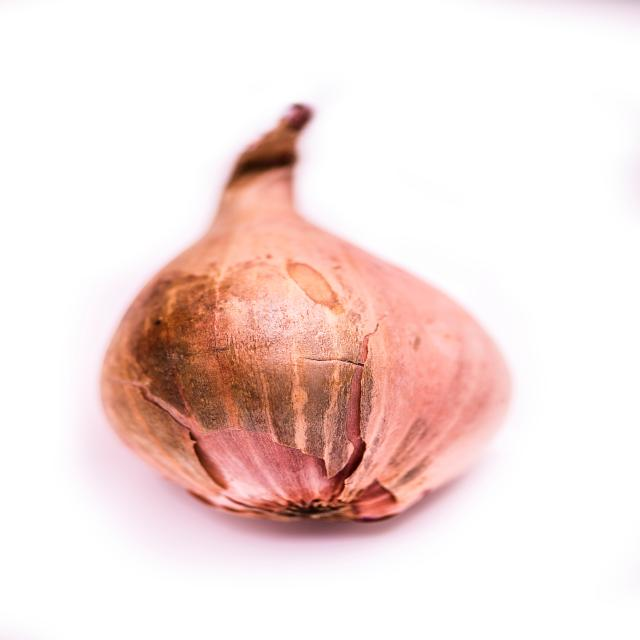onion: (108, 105, 508, 525)
